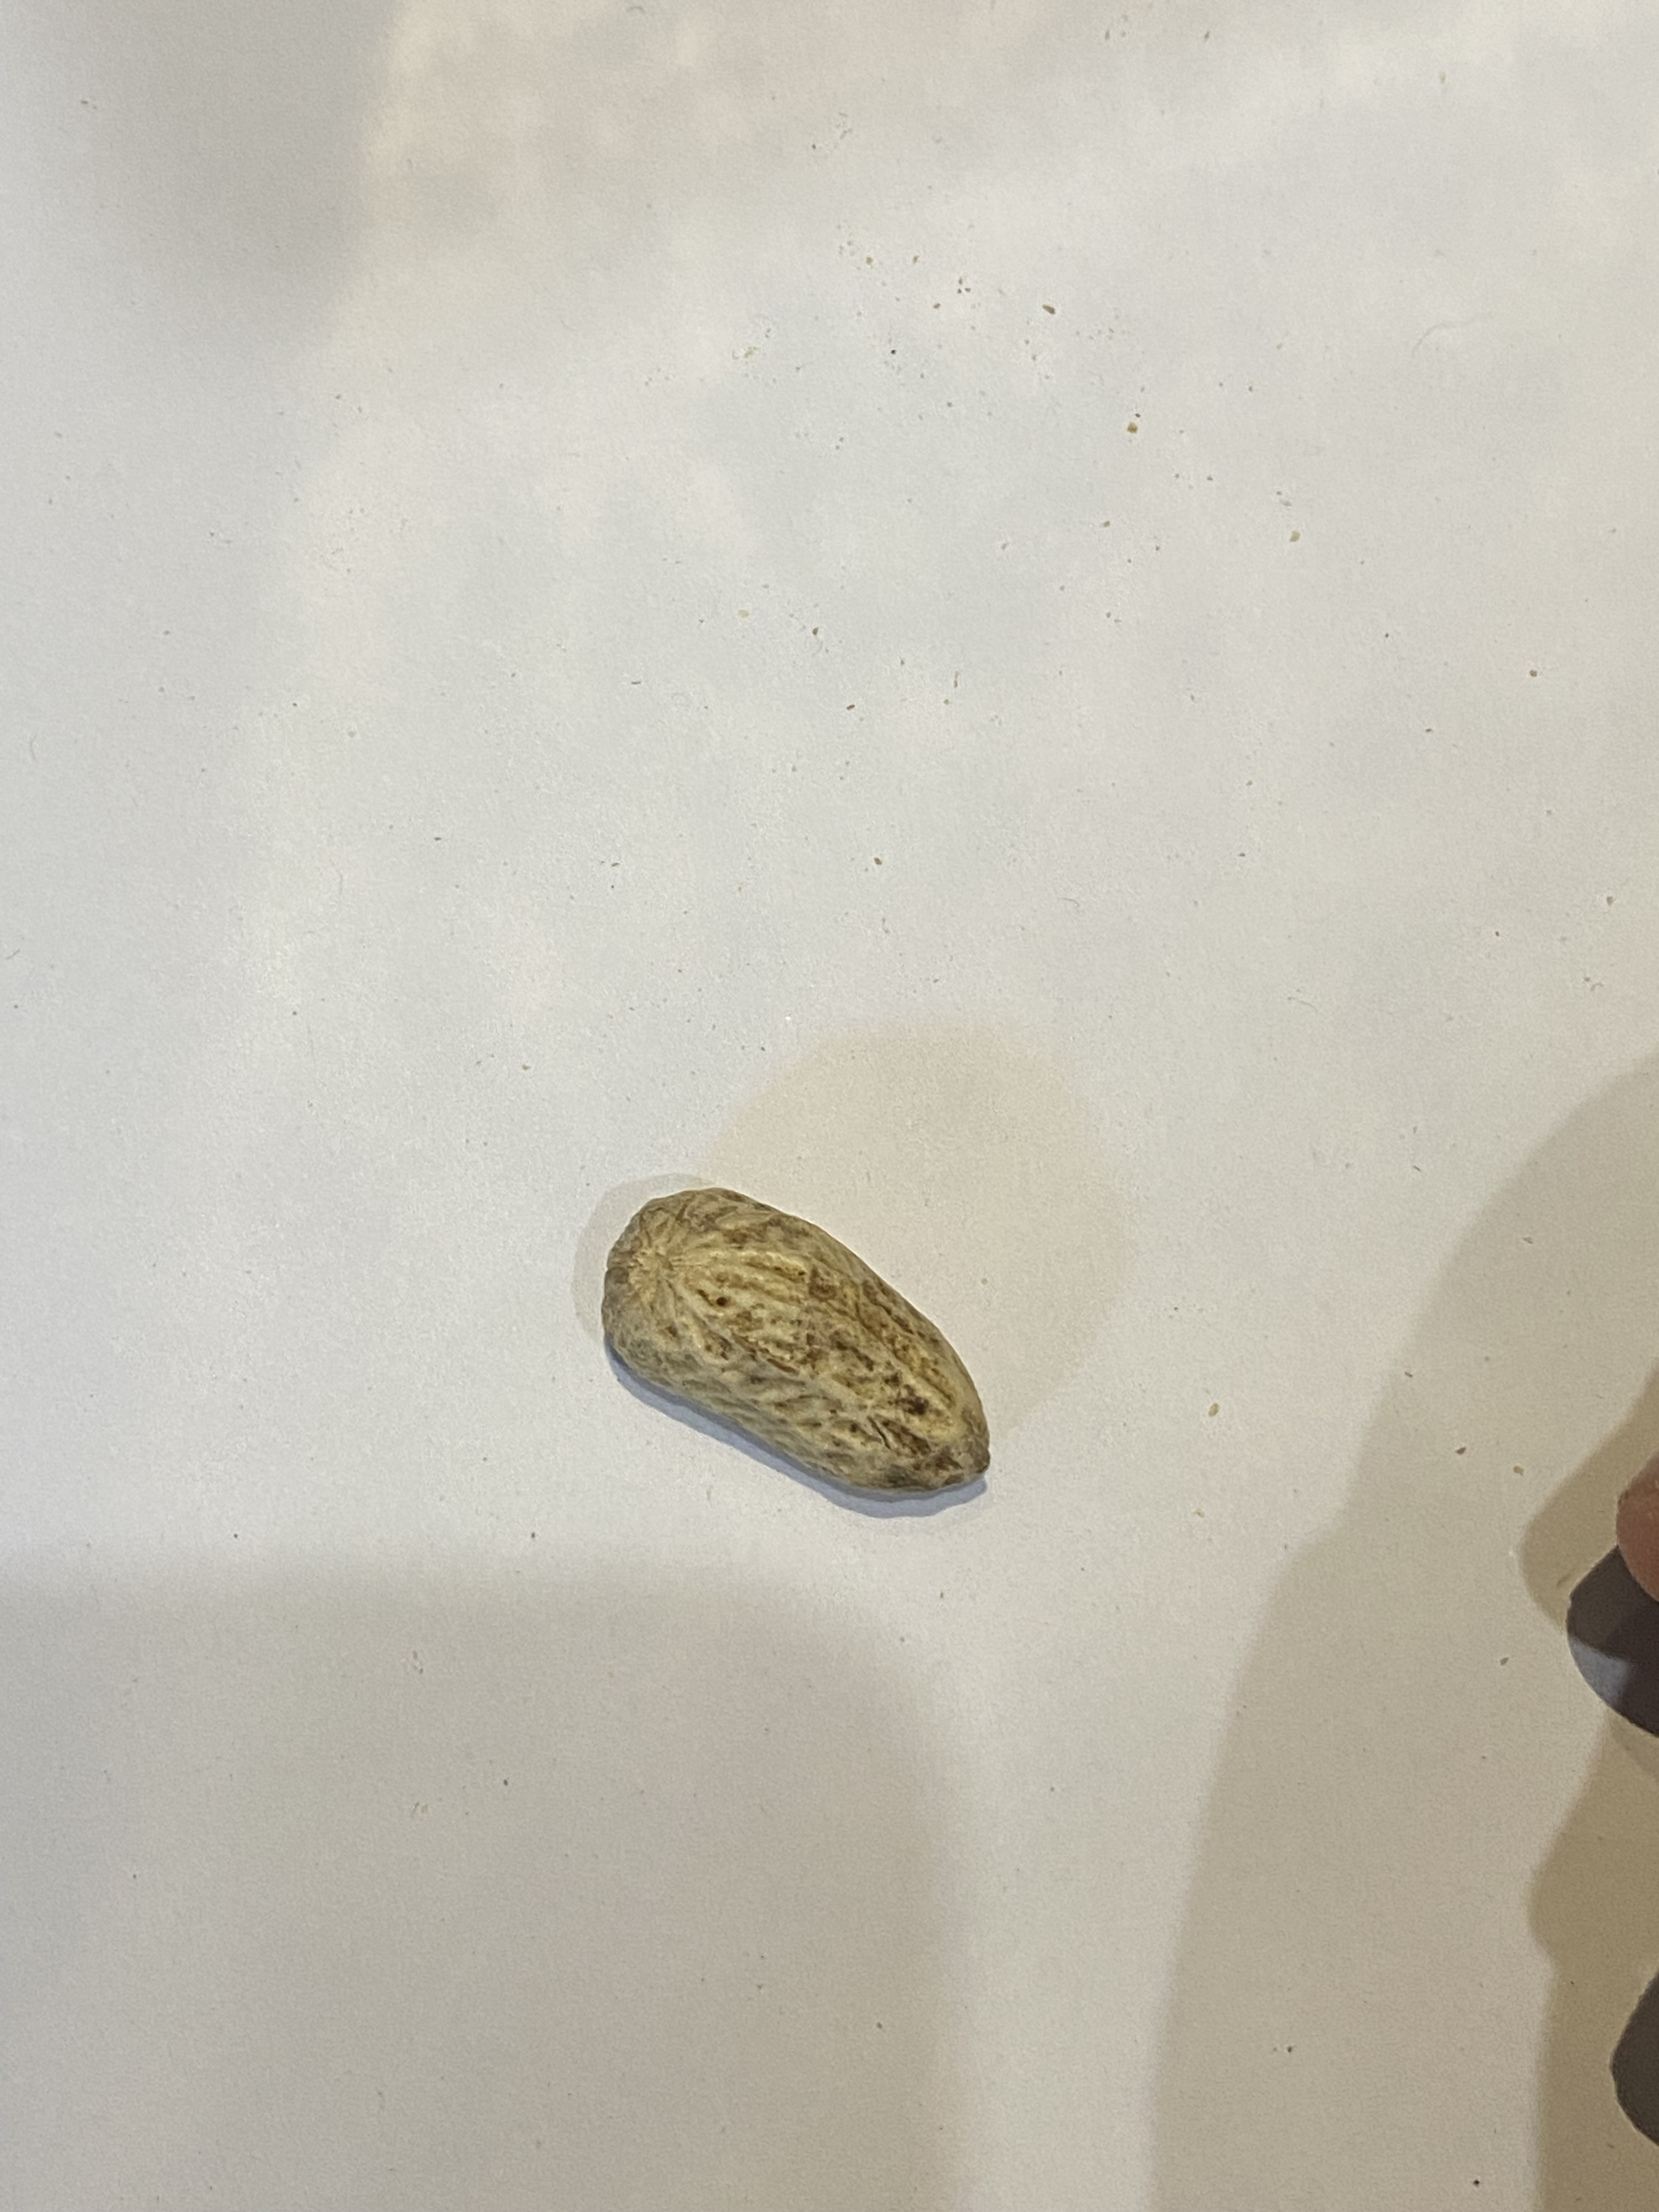kacang2: (591, 1155, 997, 1538)
